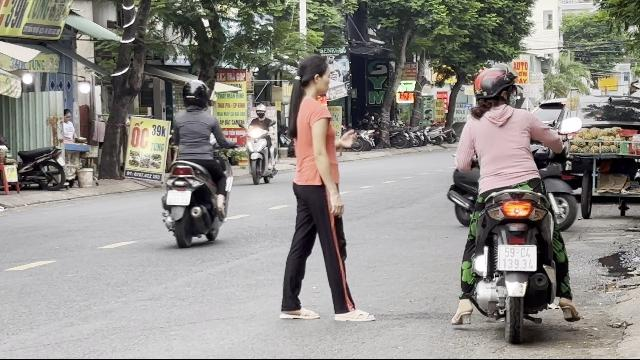helmet: (471, 65, 517, 111), (180, 78, 210, 110)
licenseplate: (498, 245, 536, 271), (168, 190, 190, 206)
motorcyclist: (443, 64, 583, 344), (158, 78, 232, 246)
